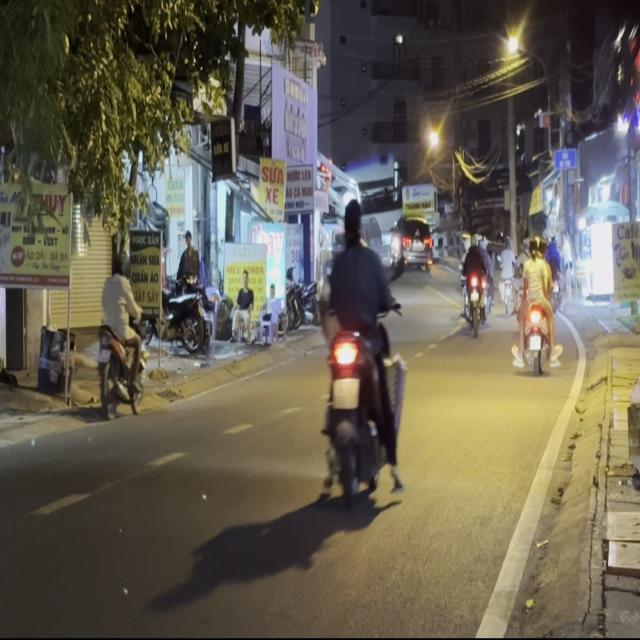licenseplate: (316, 192, 407, 528)
motorcyclist: (340, 197, 362, 242)
nohelmet: (331, 377, 358, 407)
